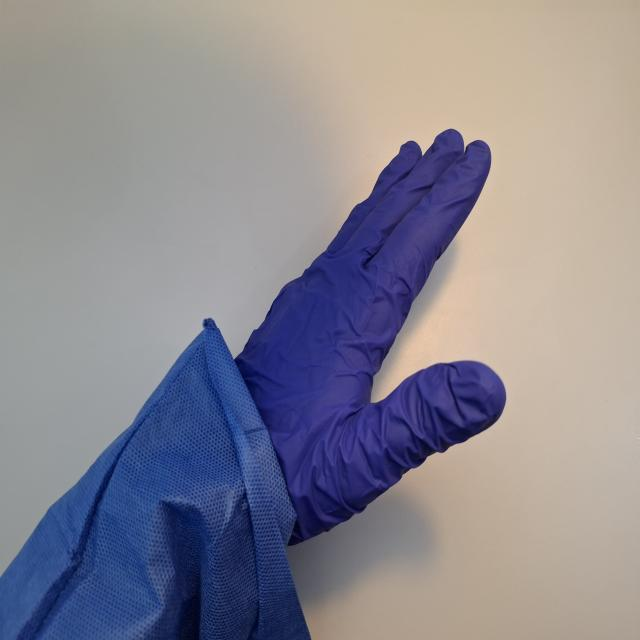glove_on: (183, 125, 509, 556)
